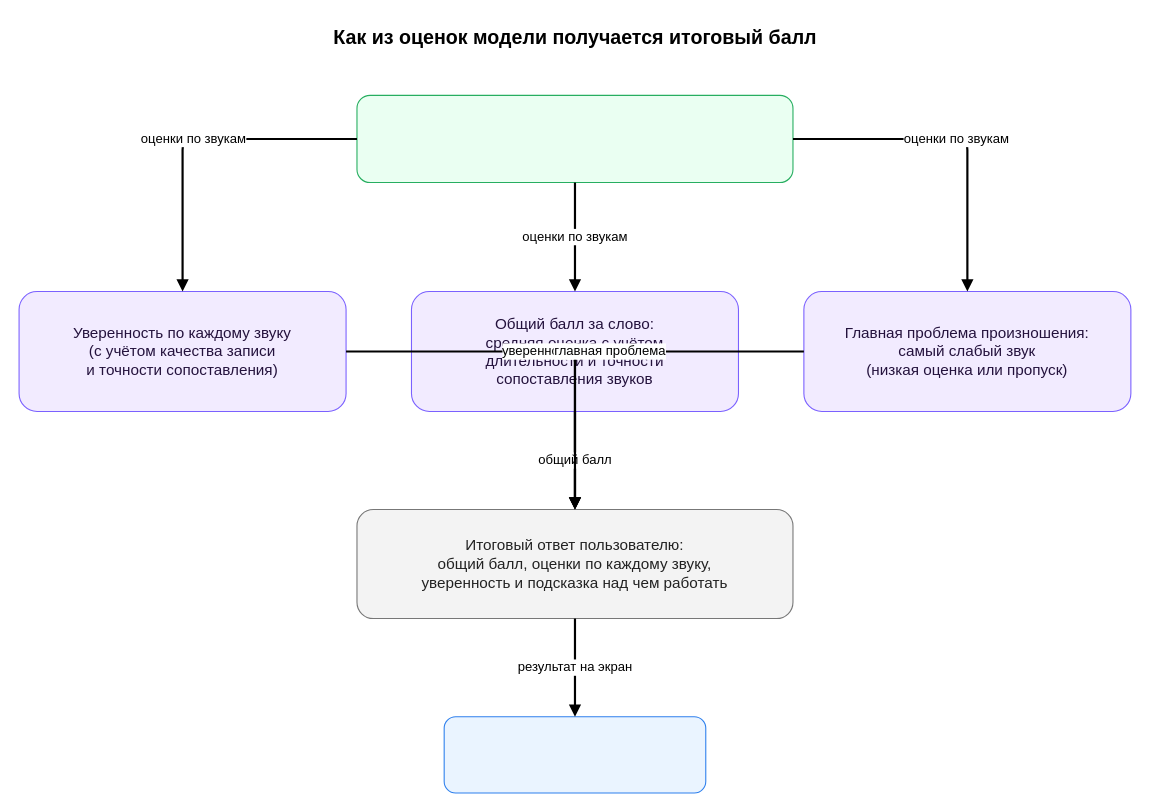
This 1150x812 diagram has some shape labels left out. The shapes that lost their labels are listed below. From the top down, each one's centre as x and y in pixels, then its label:
the point at 574,138: Оценки модели по каждому звуку слова
the point at 574,754: Пользователь видит результат
